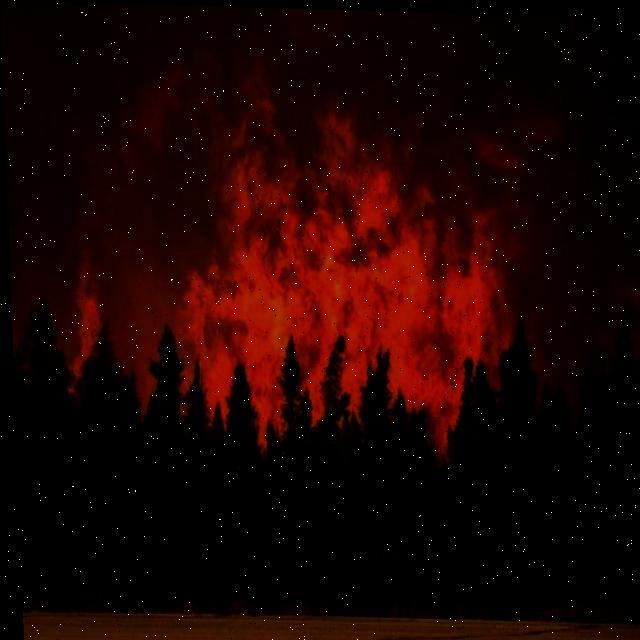Fire: (168, 102, 523, 448), (66, 250, 100, 390)
